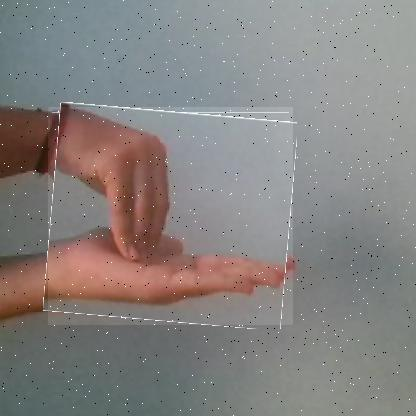Z: (48, 107, 294, 326)
